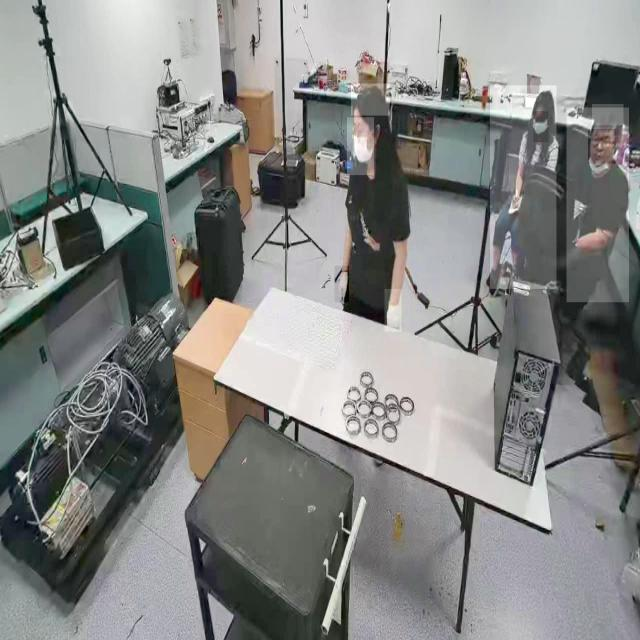face_mask: (347, 117, 374, 175), (534, 111, 548, 142)
face_nomask: (588, 129, 616, 164)
hand_glove: (384, 289, 402, 332), (334, 266, 350, 303)
hand_noglove: (512, 190, 520, 208)
head_nohelmet: (351, 84, 390, 116), (592, 104, 624, 126), (532, 89, 554, 110)
person: (335, 76, 410, 342), (490, 85, 557, 290), (566, 108, 630, 303)
